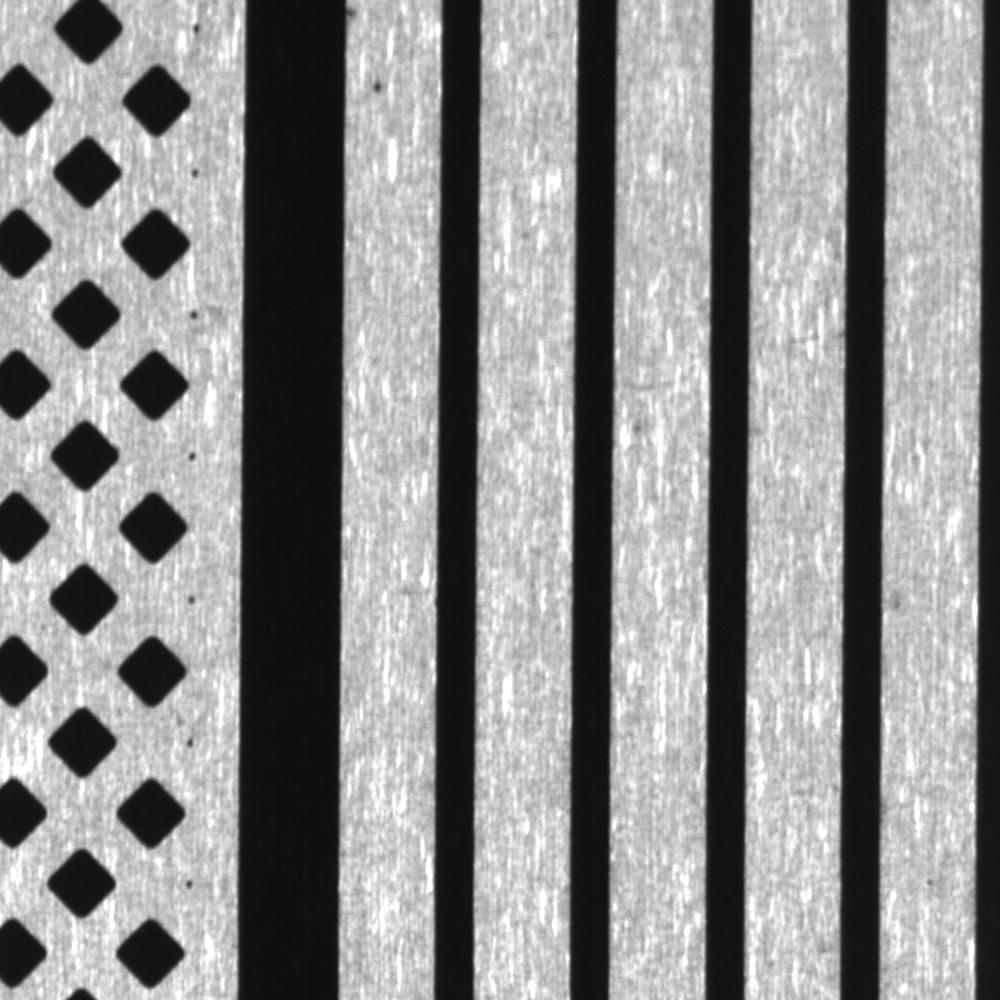Etching: (346, 1, 376, 32)
Pinhole: (911, 863, 953, 902), (364, 64, 396, 111)
